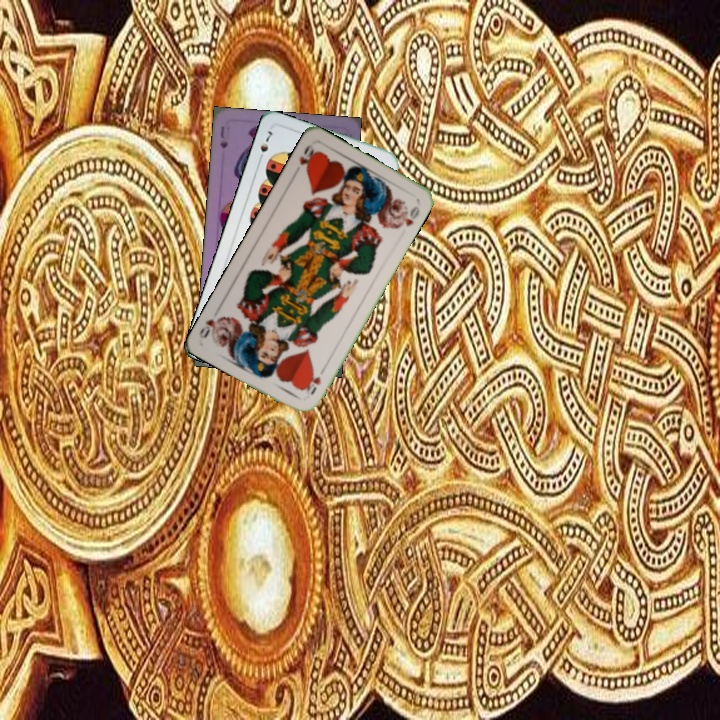HO: (295, 140, 319, 174), (300, 368, 324, 397)
S7: (254, 127, 275, 164)
SU: (216, 122, 230, 151)
